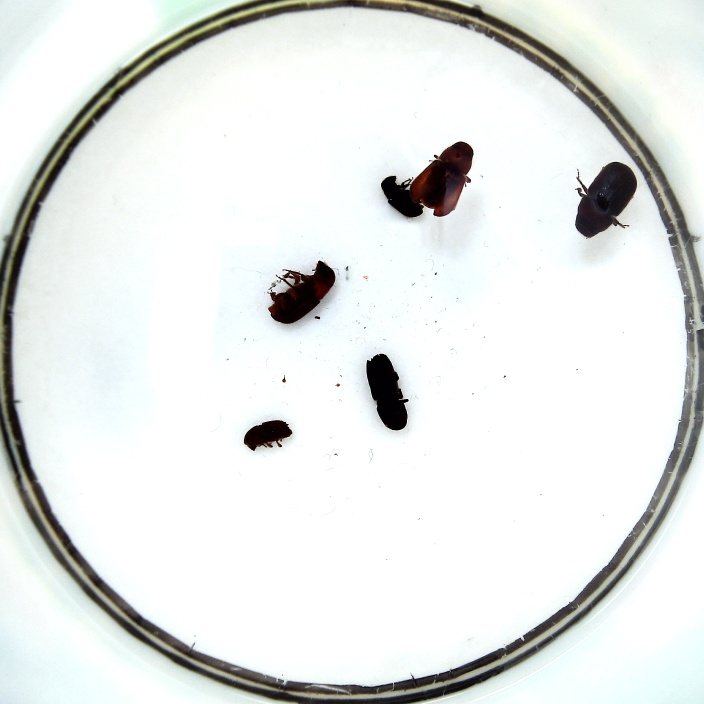armandi: (381, 176, 424, 217)
boerner: (366, 353, 408, 430)
leconte: (409, 141, 474, 216), (574, 162, 636, 238), (268, 261, 335, 323)
linnaeus: (244, 419, 293, 450)
